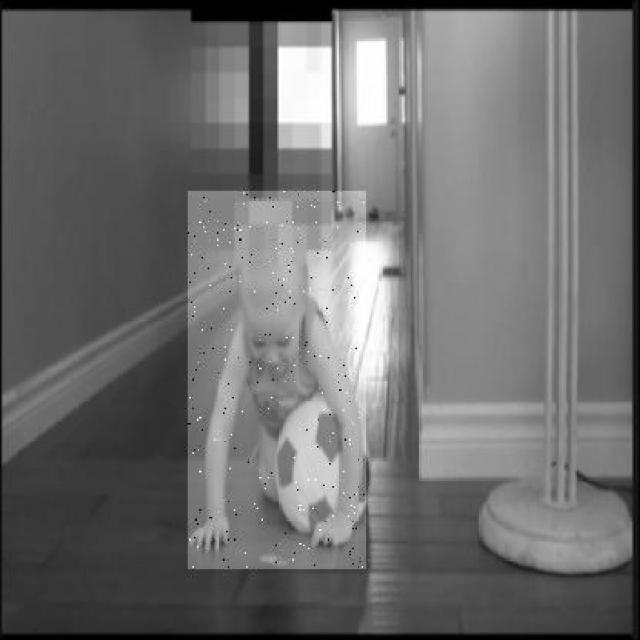child: (188, 191, 366, 569)
